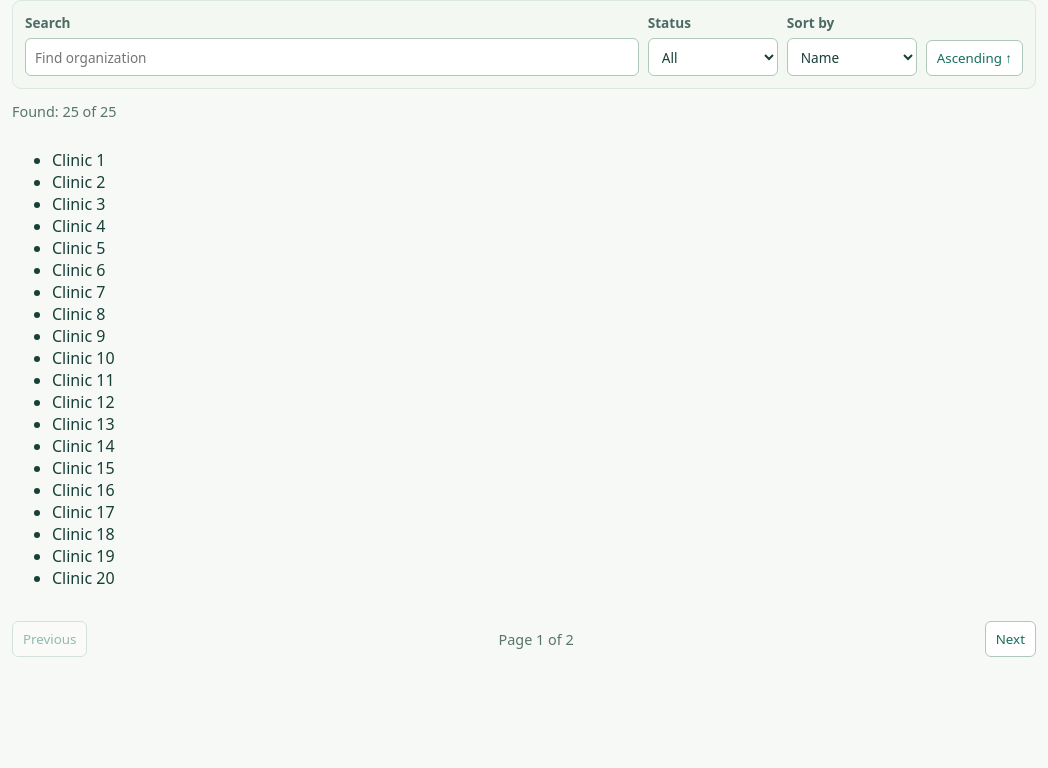
uses natural sorting, pages results, and resets page when searching
Expected: the list item "Clinic 2" is shown, [52, 171, 105, 193]
Click the button "Next" at (1010,639), box [985, 621, 1036, 657]
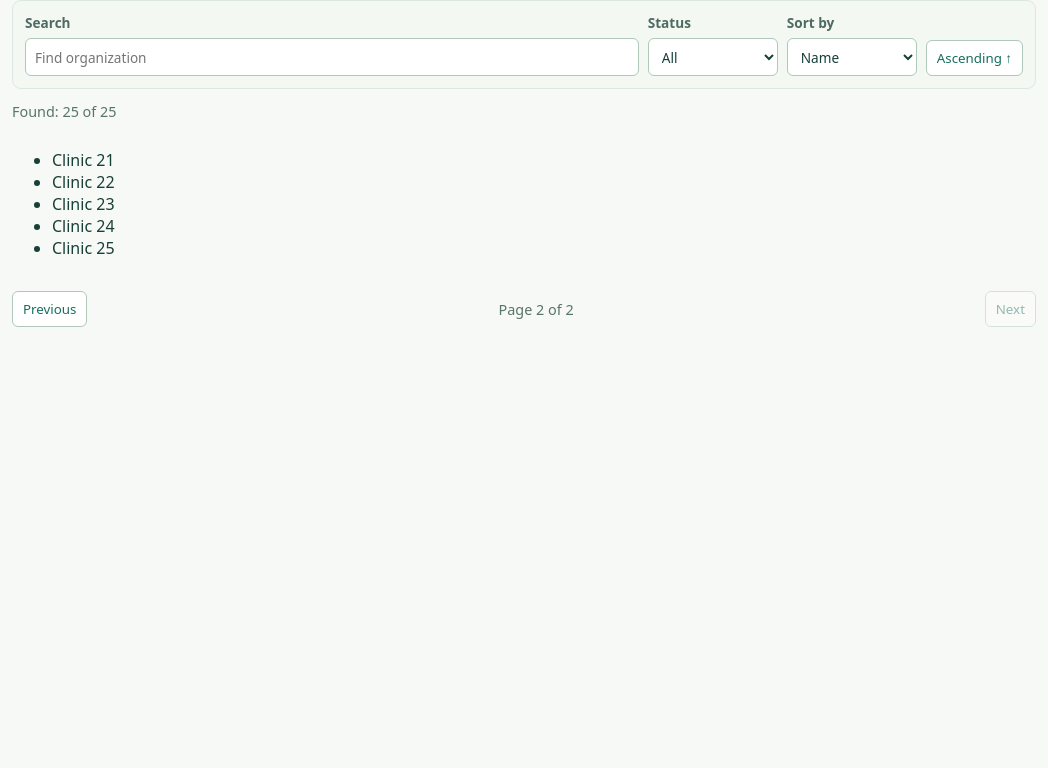
Expected: the number of list items is 5, [52, 149, 114, 171]; [52, 171, 114, 193]; [52, 193, 114, 215]; [52, 215, 114, 237]; [52, 237, 114, 259]
Type " CLINIC 2 " into the search field at (332,57), box [25, 38, 639, 76]
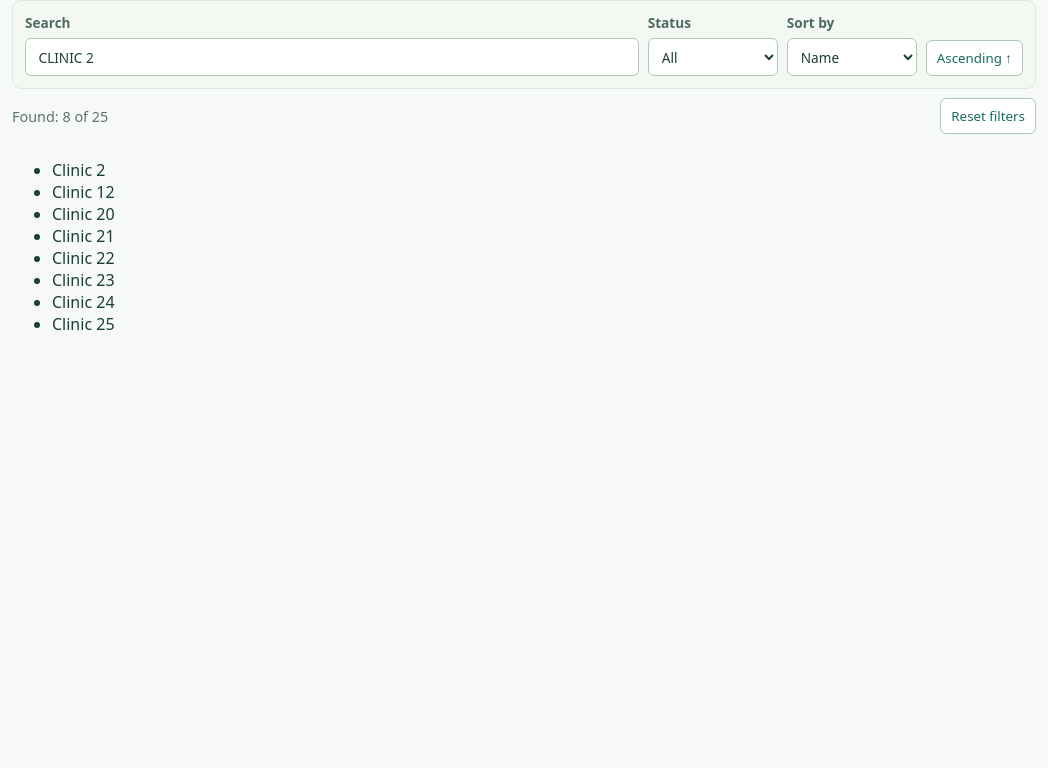
Expected: the number of list items is 8
Expected: the message reads "Found: 8 of 25", [12, 106, 108, 126]
